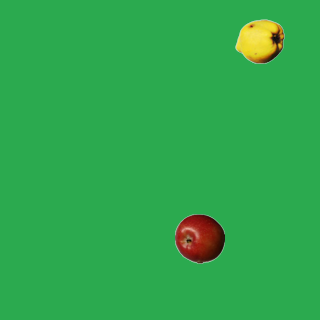Apple Braeburn: (174, 213, 224, 263)
Quince: (234, 16, 284, 66)
